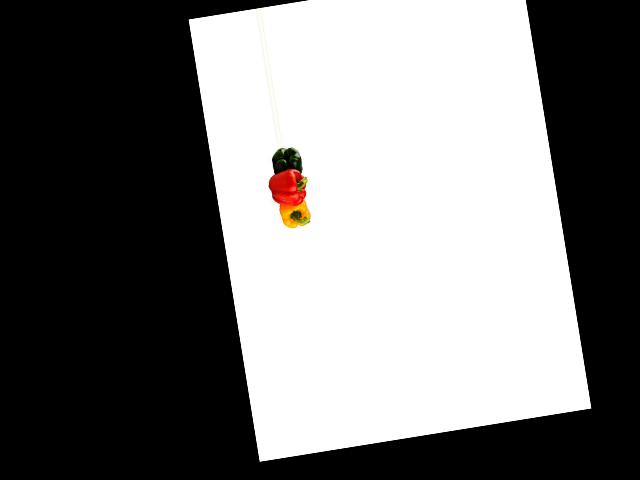bell_pepper: (272, 196, 315, 232)
